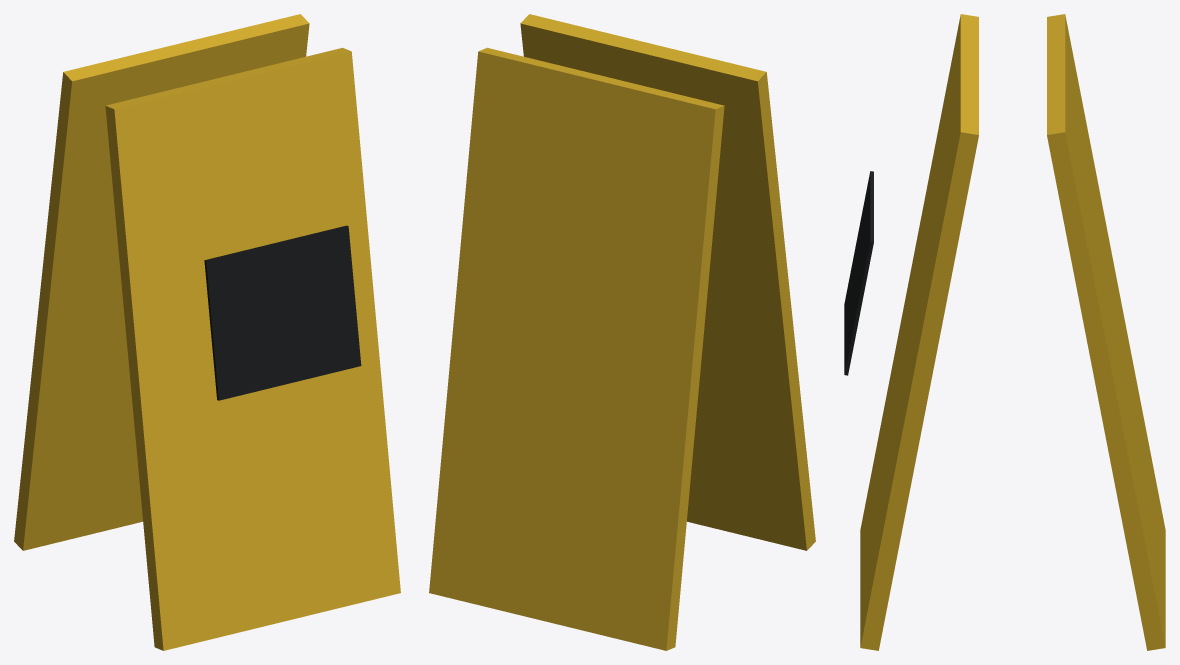
Rendered from wet_floor_sign.glb.
The picture shows the model from 3 angles, left to right: view 1: azimuth 30°, elevation 25°; view 2: azimuth 150°, elevation 25°; view 3: azimuth 270°, elevation 25°; orthographic projection. The views are drawn at different scales.
Parts seen in each view (by area): view 1: WetFloorSign; view 2: WetFloorSign; view 3: WetFloorSign.
Part boxes in pixels (x1,y1,x2,y2): WetFloorSign: (14,14,400,650); WetFloorSign: (429,14,815,650); WetFloorSign: (844,14,1165,650).
Bounding box in the file's own units: 0.3 × 0.6141 × 0.3445.
